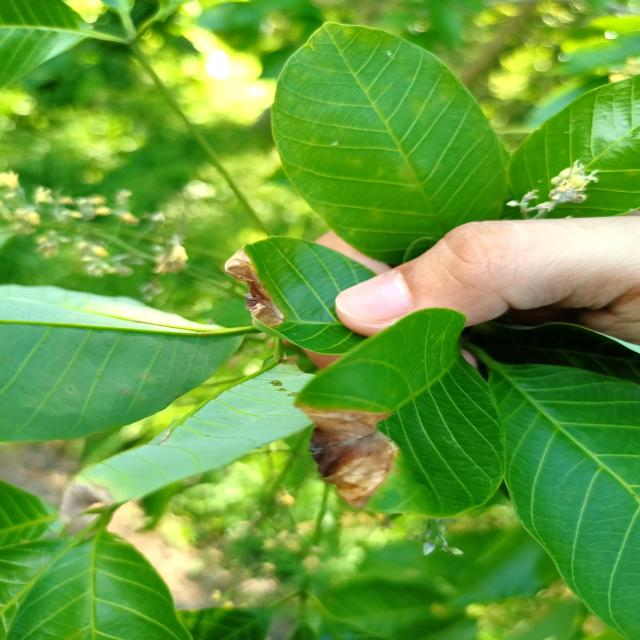Leaf-Blight: (292, 404, 400, 510), (225, 248, 284, 326), (58, 473, 114, 536)
